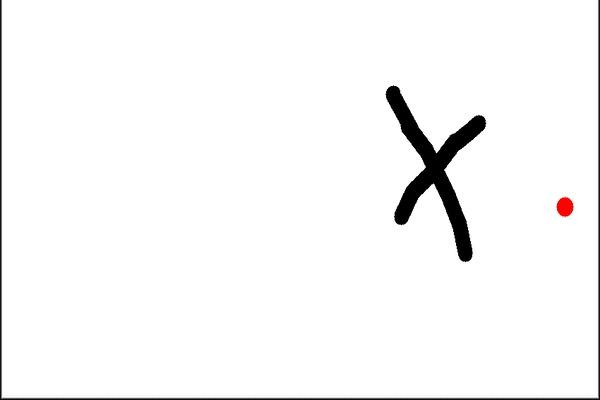X: (364, 78, 496, 277)
